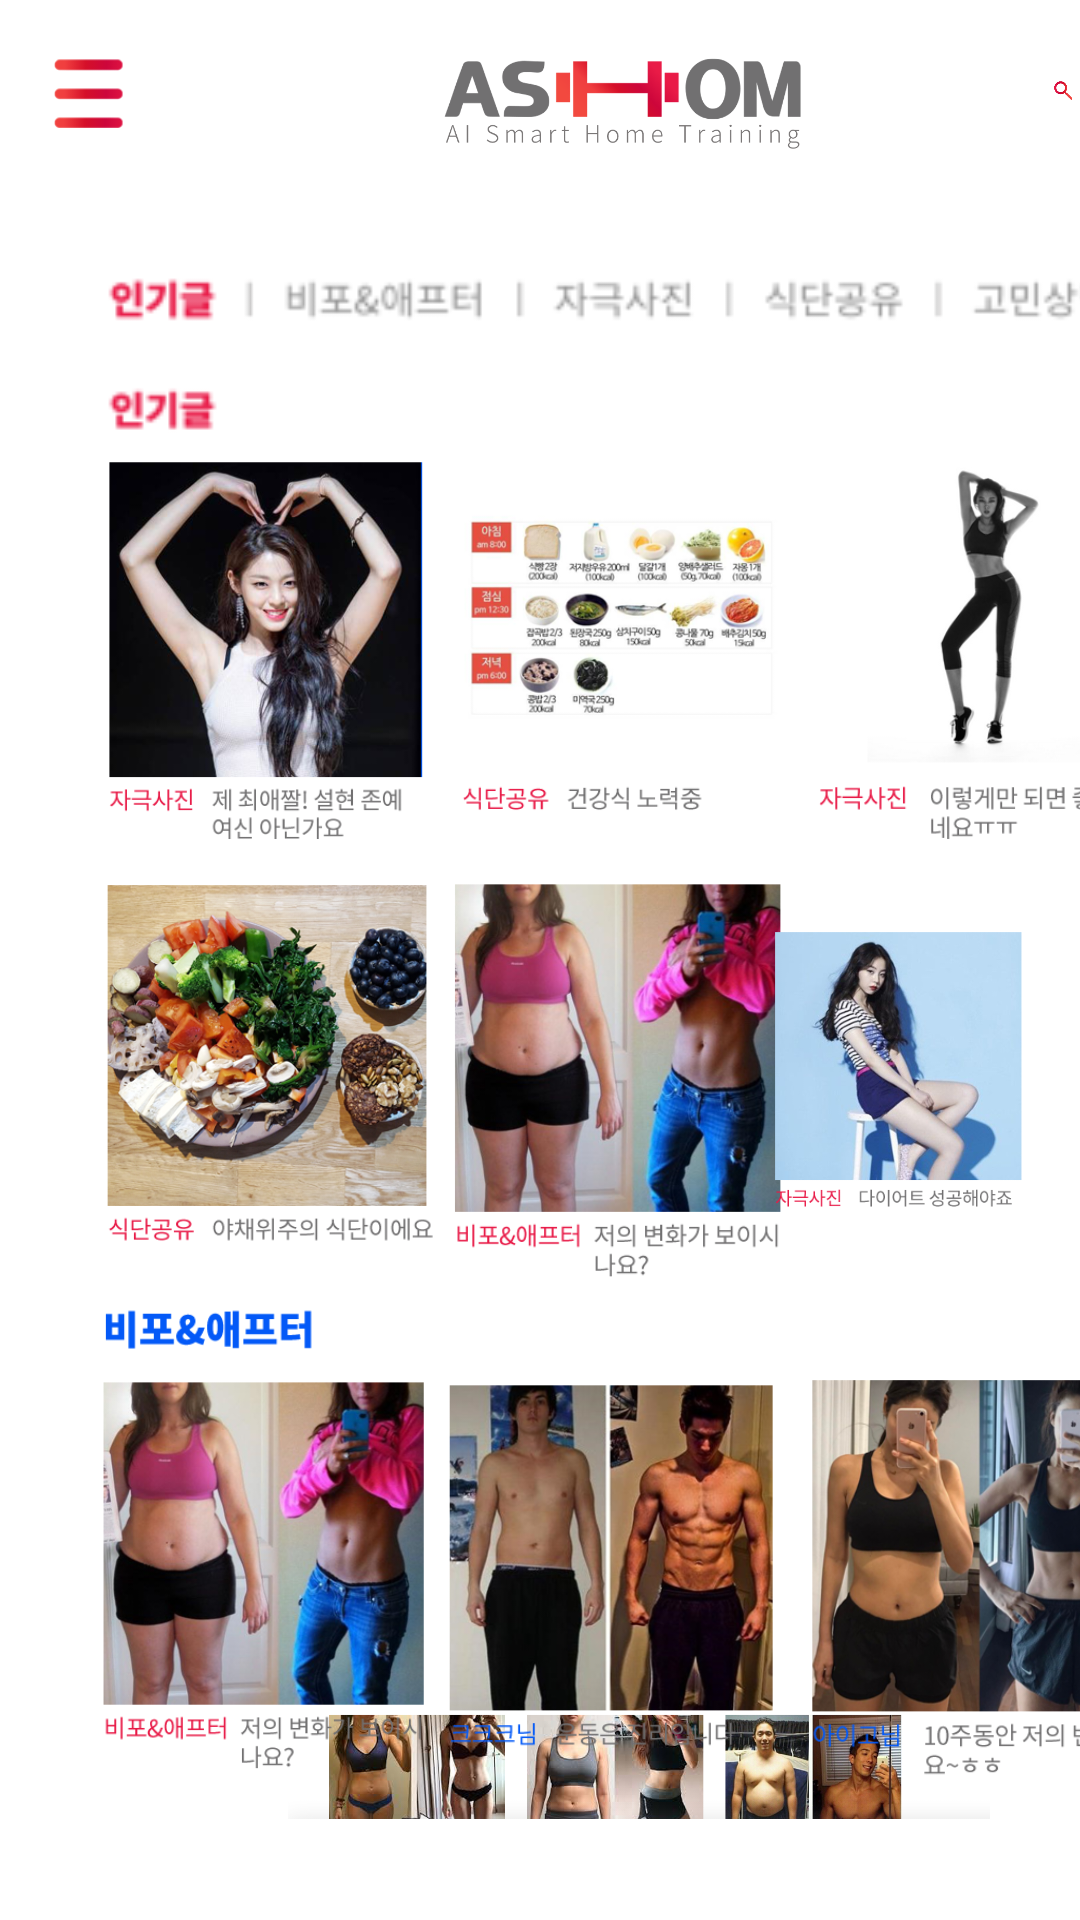

Icons on this 1080px x 1920px Android screen, each with the point to tap as point (x, y):
triple: point (88, 93)
